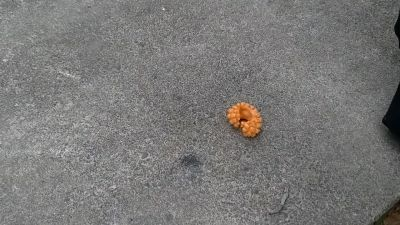eggs: (226, 100, 262, 138)
